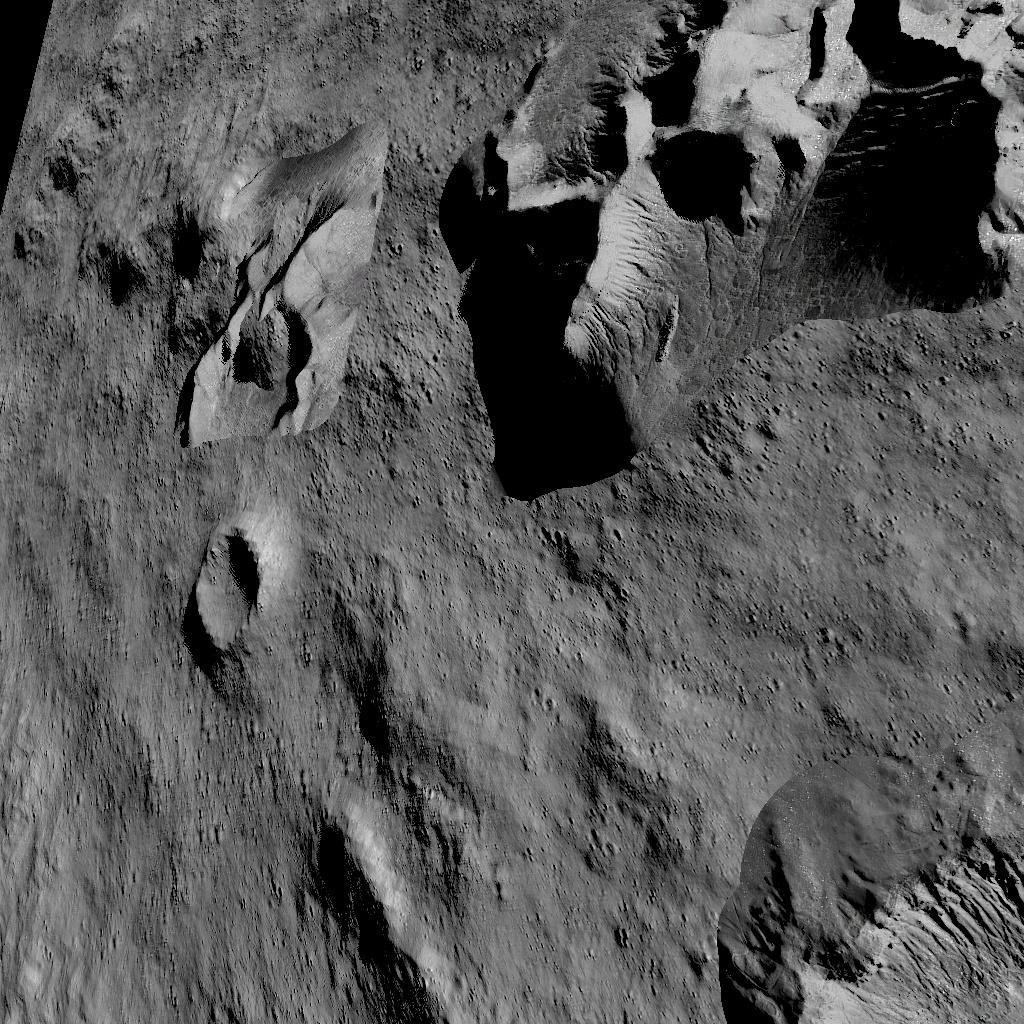Boulders: (445, 0, 1024, 495), (151, 120, 405, 456)
Crater: (739, 827, 1024, 1024), (187, 518, 285, 660)
Plan surface: (414, 508, 1024, 814), (1, 668, 314, 1024), (461, 828, 727, 1024), (0, 464, 178, 660), (151, 2, 429, 110)
